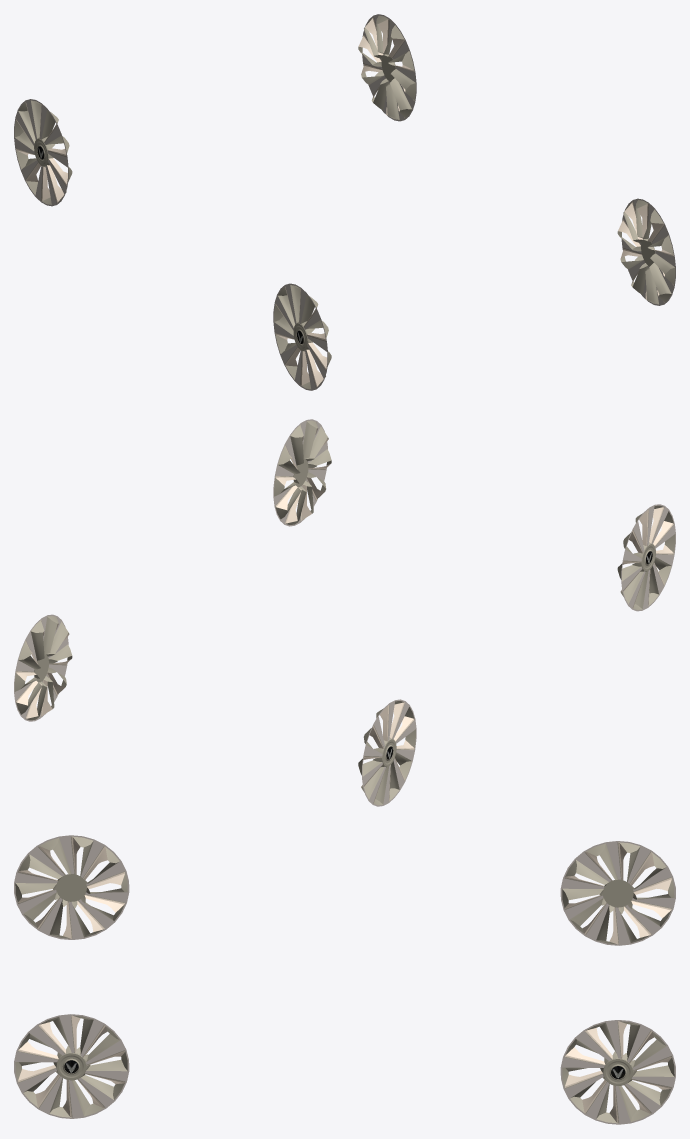
3 renders of one model, top to bottom at view 1: azimuth 30°, elevation 25°; view 2: azimuth 150°, elevation 25°; view 3: azimuth 270°, elevation 25°, orthographic. The views are drawn at different scales.
Visible parts, largest first — view 1: 2; view 2: 2; view 3: 2.
Boxes of the visible parts, left/top/right/bottom form: 2: left=14, top=14, right=675, bottom=390; 2: left=14, top=419, right=675, bottom=806; 2: left=14, top=835, right=675, bottom=1124.
Bounding box in the file's own units: 0.9731 × 0.2795 × 1.52.
4 materials, 1 textured.
